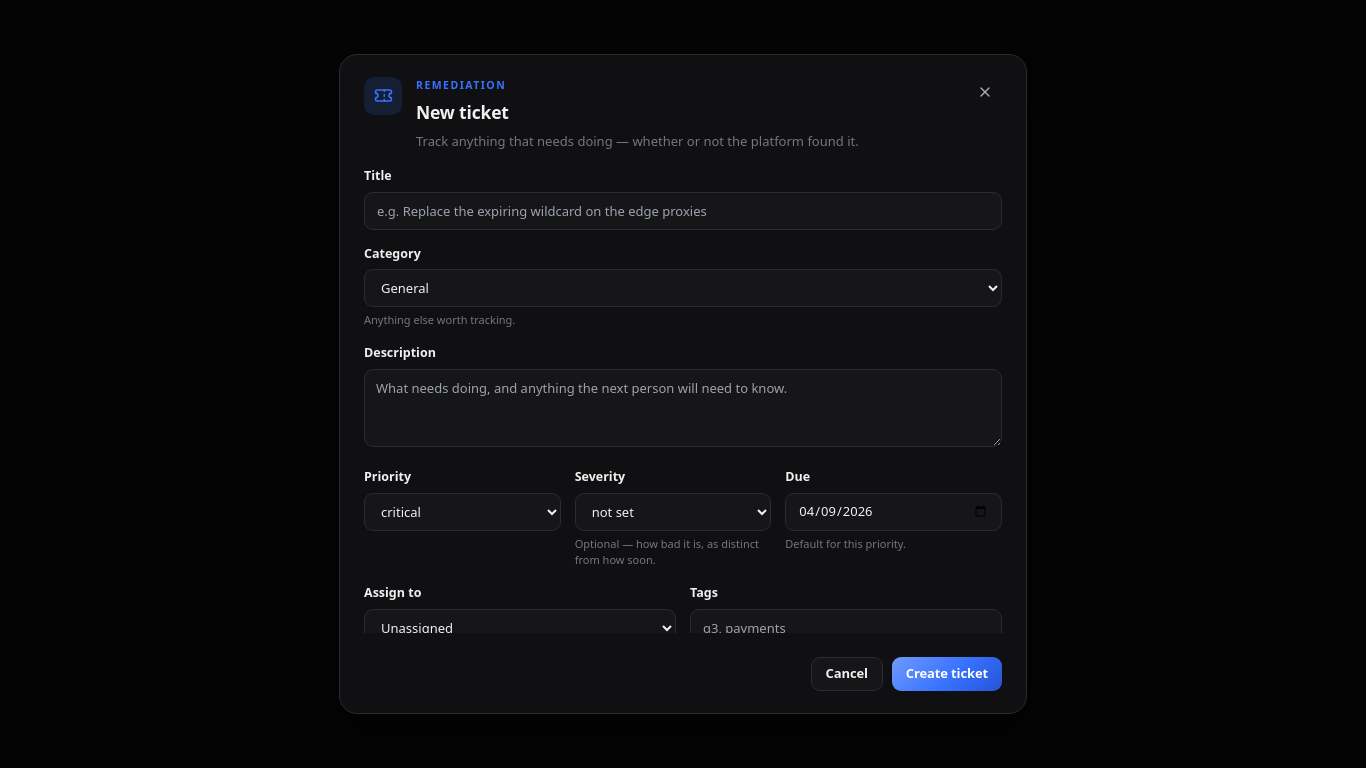
Scenario: the create-ticket modal › moves the due date when the priority changes
Check: the date field labelled "Due Default for this priority." holds "2026-04-09", box [785,493,1002,531]
Select "critical" in the dropdown labelled "Priority". click: [462, 512]
box: [364,493,561,531]
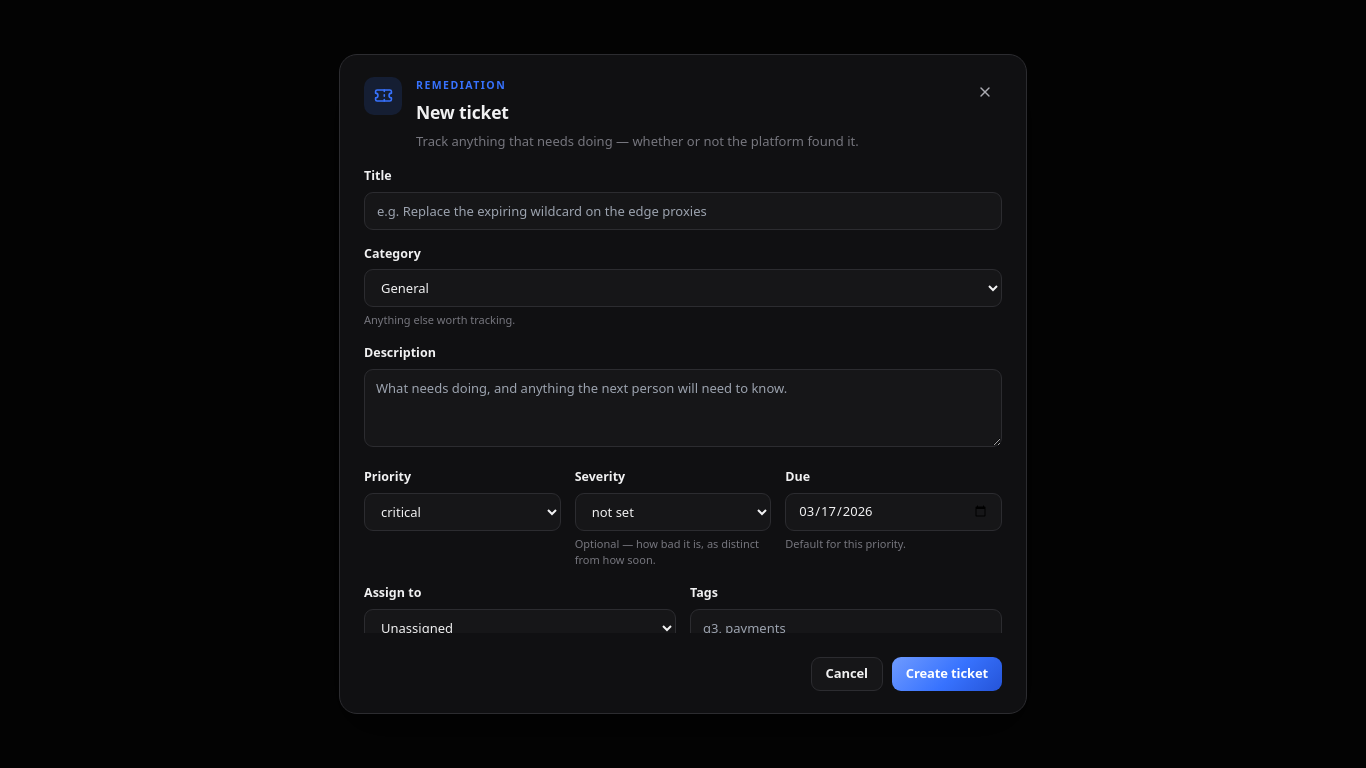
Check: the date field labelled "Due Default for this priority." holds "2026-03-17", box [785,493,1002,531]
